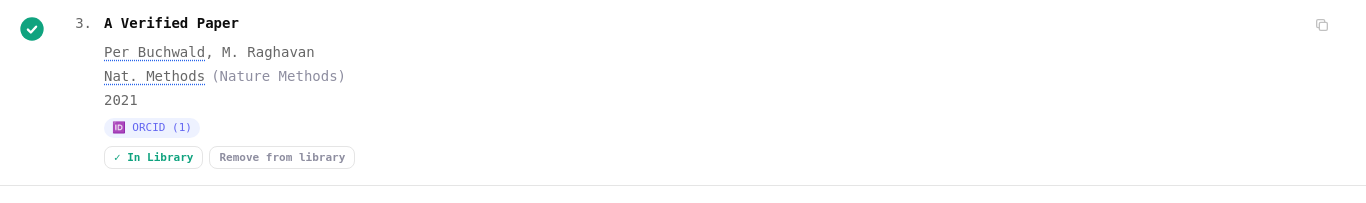
ReferenceCard VenueLine + author backfill (mount) › opens the venue popover on hover and shows OpenAlex journal metadata
The width and height of the screenshot is (1366, 203).
Hover over the link "Nat. Methods" at (155, 76), box [104,68,205,84]
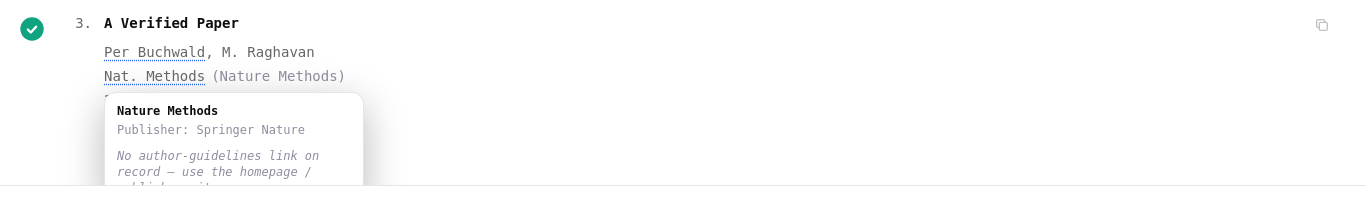
Expected: the tooltip shows "Springer Nature", [196,123,305,137]
